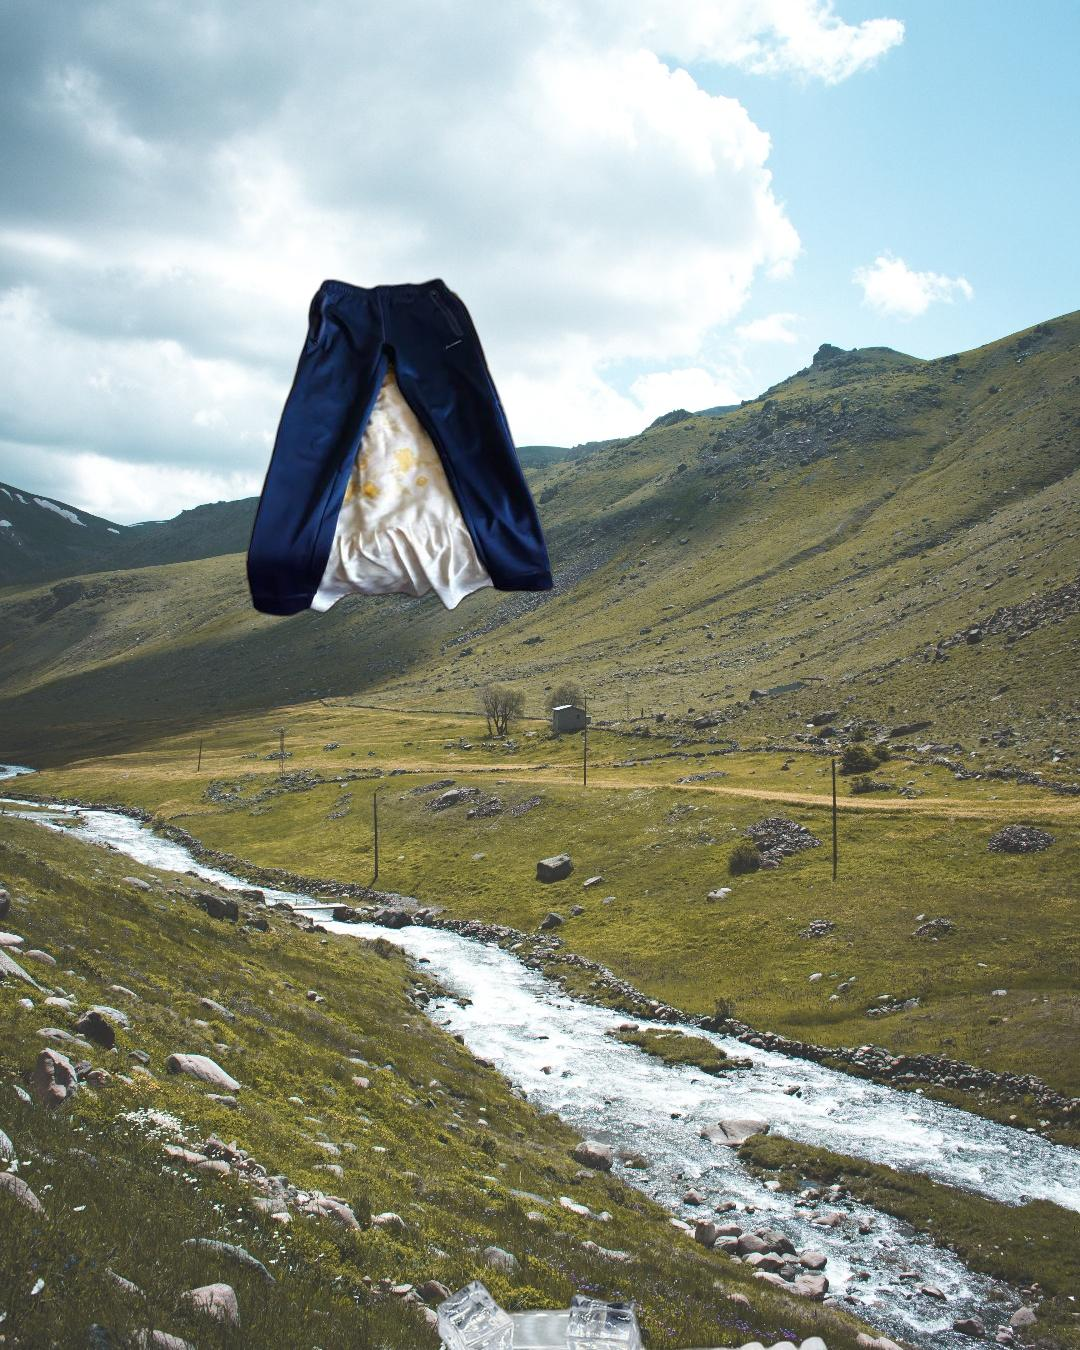clothes: (244, 274, 558, 622)
penholder: (420, 1213, 920, 1350)
